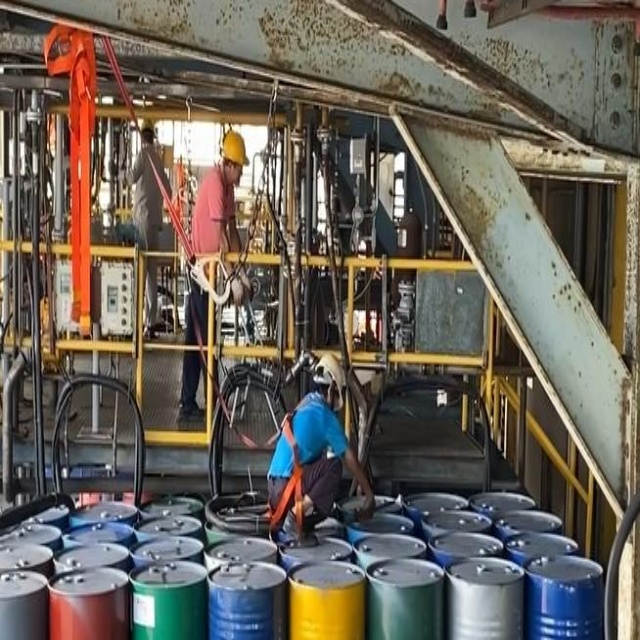Arnes_seguridad: (269, 395, 330, 539)
